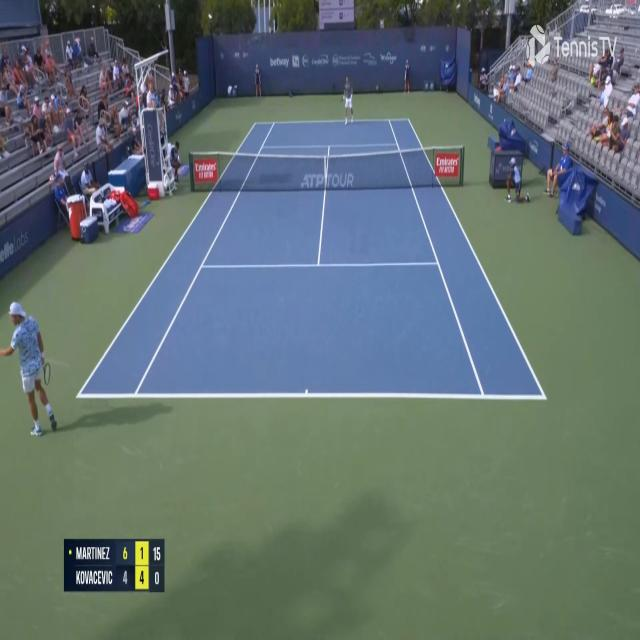tennis-player: (3, 296, 60, 439), (340, 73, 355, 126)
